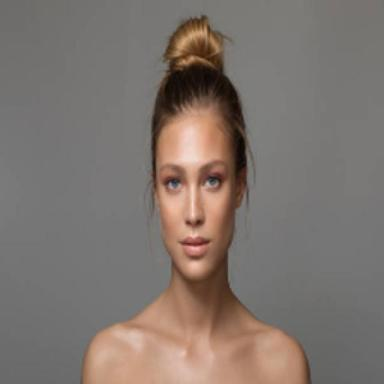normal skin: (83, 111, 309, 384)
